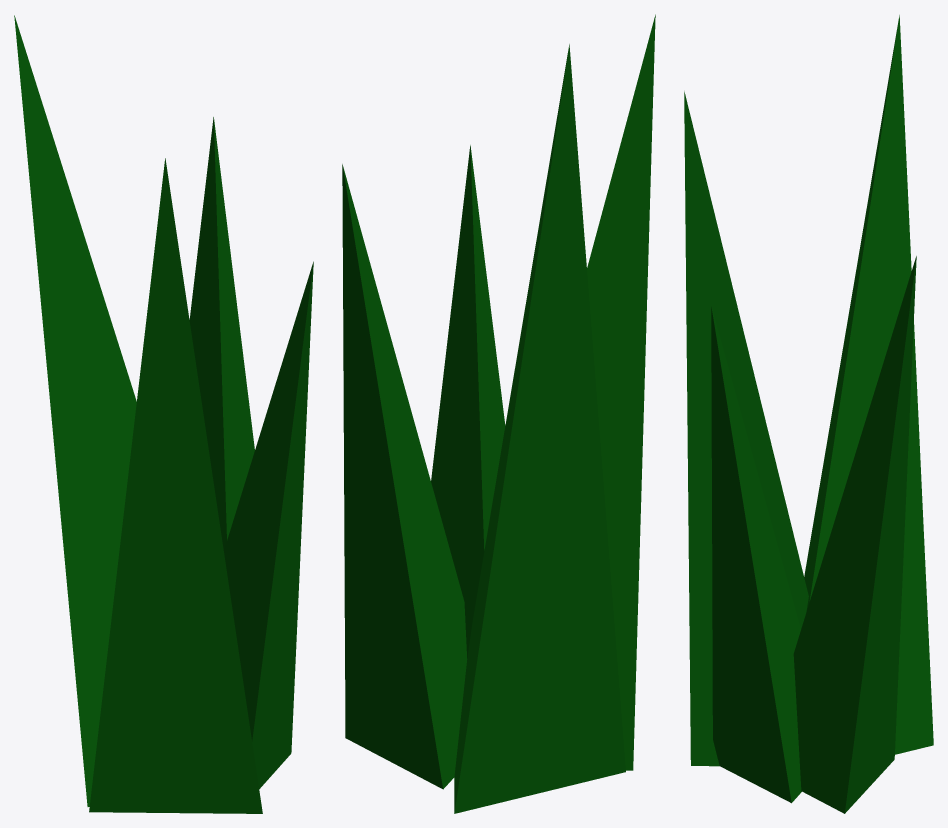
File: grass.glb
The picture shows the model from 3 angles, left to right: view 1: azimuth 30°, elevation 25°; view 2: azimuth 150°, elevation 25°; view 3: azimuth 270°, elevation 25°; orthographic projection. The views are drawn at different scales.
Parts seen in each view (by area): view 1: Cone.003, Cone, Cone.002, Cone.001; view 2: Cone, Cone.001, Cone.003, Cone.002; view 3: Cone.001, Cone.002, Cone, Cone.003.
Part boxes in pixels (x1,y1,x2,y2): Cone.003: (89,158,262,813); Cone: (14,15,136,806); Cone.002: (224,261,313,788); Cone.001: (189,117,254,550); Cone: (454,44,625,813); Cone.001: (342,164,467,789); Cone.003: (587,14,655,770); Cone.002: (431,145,505,658); Cone.001: (793,256,916,813); Cone.002: (711,306,801,803); Cone: (804,15,933,754); Cone.003: (684,91,808,766).
Bounding box in the file's own units: 0.6844 × 2 × 0.6559.
